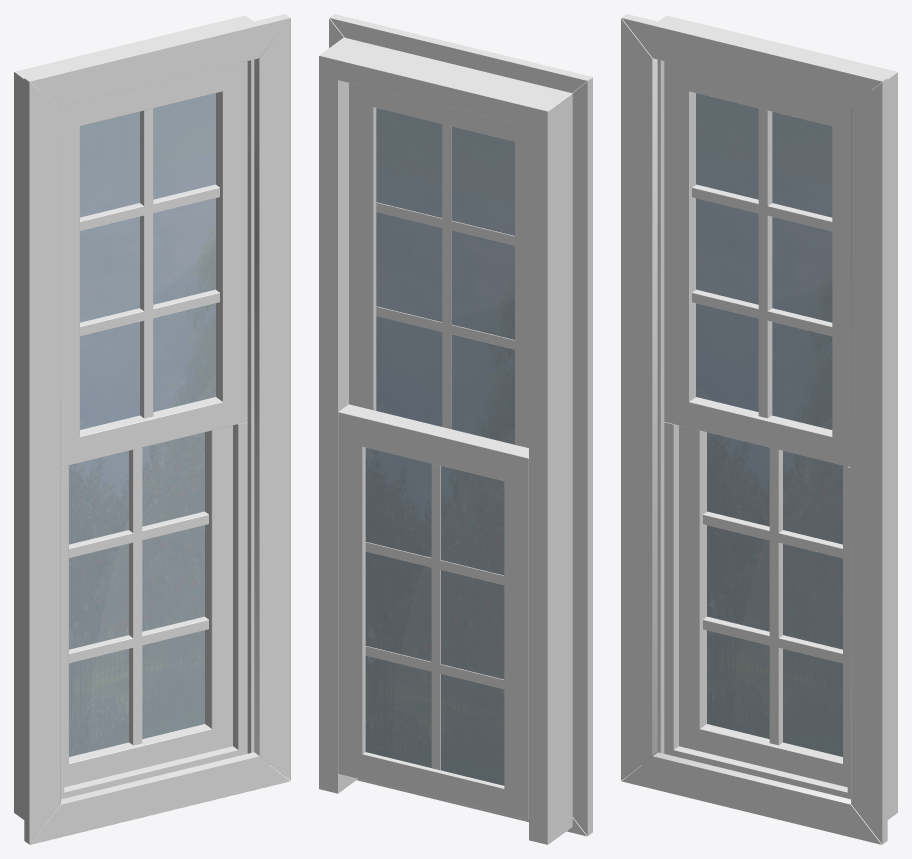
3 views of the same model, side by side, from view 1: azimuth 30°, elevation 25°; view 2: azimuth 150°, elevation 25°; view 3: azimuth 330°, elevation 25° (orthographic).
Parts seen in each view (by area): view 1: trim, glass002, glass001, window_right001, window_right, box_left, window_left001, box_right, stop_right, window_bottom001, window_bottom, muttin_vertical002 (+10 smaller); view 2: glass001, glass002, box_left, trim, box_right, window_right, window_left, window_right001, box_top, window_top, window_left001, window_bottom (+7 smaller); view 3: trim, glass002, glass001, window_left001, window_left, box_right, window_right001, box_left, window_bottom001, stop_left, muttin_vertical002, window_bottom (+10 smaller).
Part boxes in pixels (x1,y1,x2,y2): trim: (24, 14, 290, 844); glass002: (80, 93, 215, 429); glass001: (69, 432, 204, 756); window_right001: (216, 61, 247, 427); window_right: (205, 425, 232, 750); box_left: (14, 68, 55, 819); window_left001: (59, 102, 79, 467); box_right: (229, 15, 269, 764); stop_right: (233, 422, 247, 755); window_bottom001: (79, 397, 224, 462); window_bottom: (64, 724, 217, 786); muttin_vertical002: (140, 108, 153, 418); glass001: (365, 447, 504, 785); glass002: (376, 108, 514, 444); box_left: (529, 89, 572, 844); trim: (329, 14, 592, 836); box_right: (319, 37, 359, 793); window_right: (338, 404, 372, 779); window_left: (504, 446, 528, 820); window_right001: (349, 83, 376, 410); box_top: (335, 41, 555, 127); window_top: (357, 410, 520, 481); window_left001: (515, 123, 528, 447); window_bottom: (356, 752, 508, 814); trim: (621, 14, 887, 844); glass002: (696, 93, 832, 429); glass001: (707, 432, 842, 756); window_left001: (664, 61, 695, 426); window_left: (679, 425, 706, 751); box_right: (853, 68, 897, 819); window_right001: (832, 102, 852, 467); box_left: (642, 15, 682, 764); window_bottom001: (683, 397, 837, 463); stop_left: (664, 422, 678, 754); muttin_vertical002: (758, 108, 772, 418); window_bottom: (694, 724, 843, 785).
Size of the model in its own units: 21.03 by 58.71 by 4.25.
